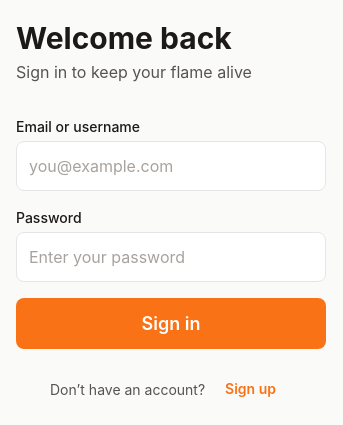
Scenario: SignInScreen › shows password validation error for short password
The image size is (343, 425).
In the field with test id "identifier-input": (171, 166) [16, 141, 326, 191], type "user@test.com"
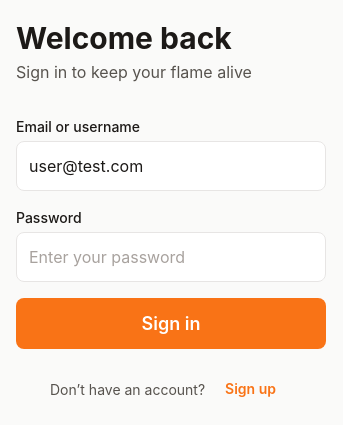
In the password field with test id "password-input": (171, 257) [16, 232, 326, 282], type "short"
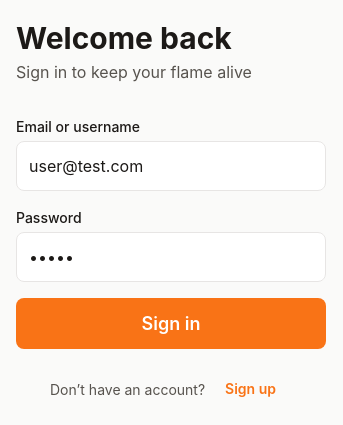
Click the button "Sign in": (171, 324) [16, 298, 326, 349]
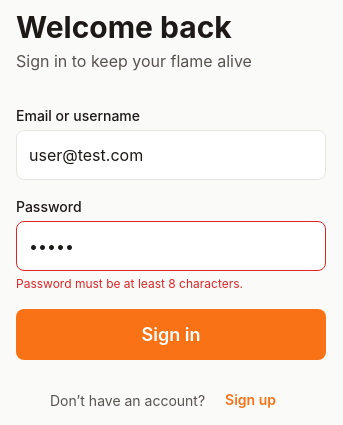
Check: the text "Password must be at least 8 characters." is shown, box [16, 276, 243, 291]
